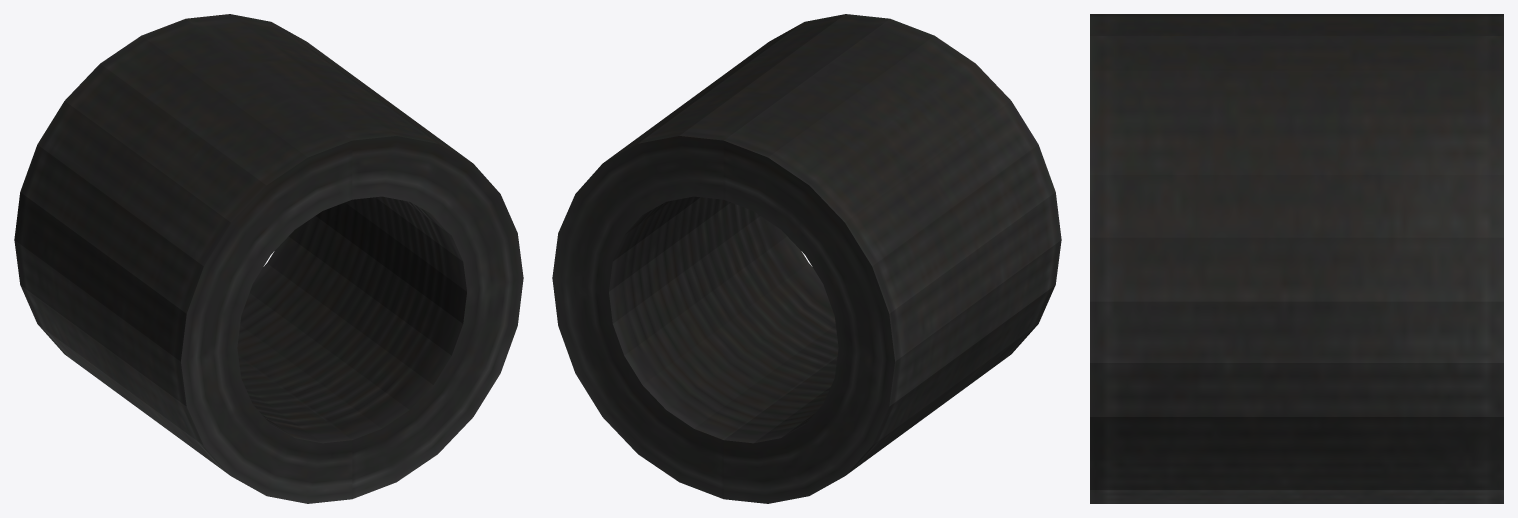
The picture shows the model from 3 angles, left to right: view 1: azimuth 30°, elevation 25°; view 2: azimuth 150°, elevation 25°; view 3: azimuth 270°, elevation 25°; orthographic projection. The views are drawn at different scales.
Parts seen in each view (by area): view 1: TW_5fbbc34106bde7524f03cbe9_PZ_Import; view 2: TW_5fbbc34106bde7524f03cbe9_PZ_Import; view 3: TW_5fbbc34106bde7524f03cbe9_PZ_Import.
Part boxes in pixels (x1,y1,x2,y2): TW_5fbbc34106bde7524f03cbe9_PZ_Import: [14, 14, 523, 503]; TW_5fbbc34106bde7524f03cbe9_PZ_Import: [552, 14, 1061, 503]; TW_5fbbc34106bde7524f03cbe9_PZ_Import: [1090, 14, 1503, 503].
Bounding box in the file's own units: 0.0107 × 0.00904 × 0.0107.
1 material, 1 textured.
